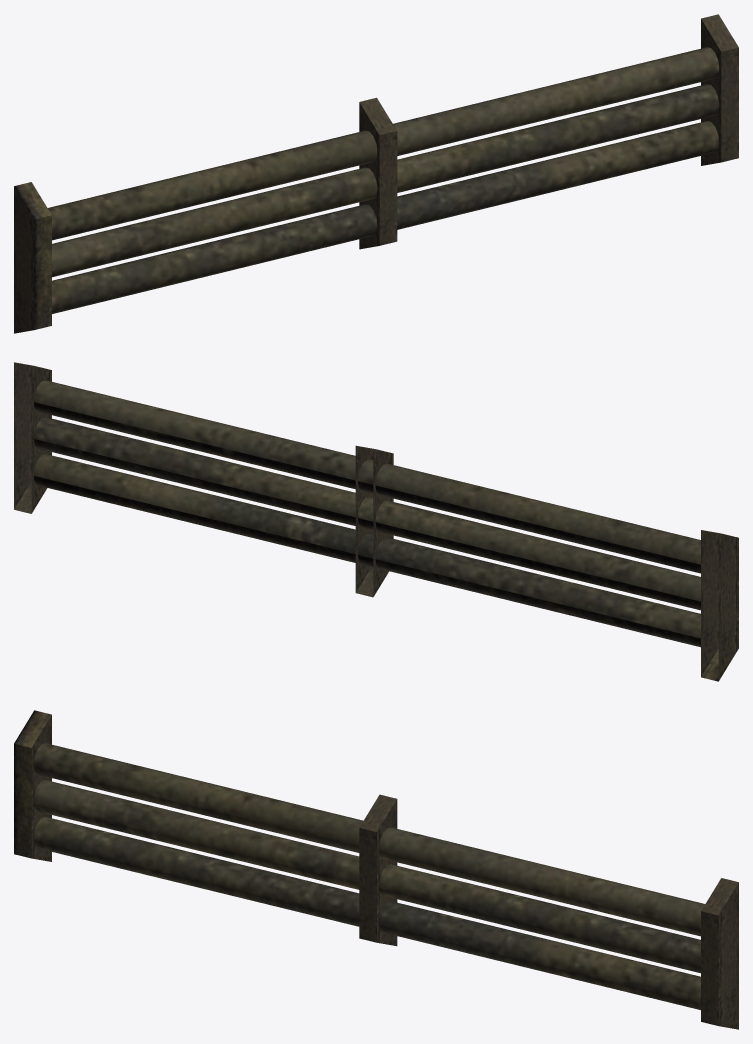
File: pipes_hr_1_horizontal_middle_1.obj
3 renders of one model, top to bottom at view 1: azimuth 30°, elevation 25°; view 2: azimuth 150°, elevation 25°; view 3: azimuth 330°, elevation 25°, orthographic.
Parts seen in each view (by area): view 1: pipes_hr_1_horizontal_middle_1; view 2: pipes_hr_1_horizontal_middle_1; view 3: pipes_hr_1_horizontal_middle_1.
Boxes of the visible parts, box(x1,y1,x2,y2) form: pipes_hr_1_horizontal_middle_1: box(14, 14, 738, 333); pipes_hr_1_horizontal_middle_1: box(14, 362, 738, 681); pipes_hr_1_horizontal_middle_1: box(14, 710, 738, 1029).
Bounding box in the file's own units: 2 × 0.4 × 0.1.
